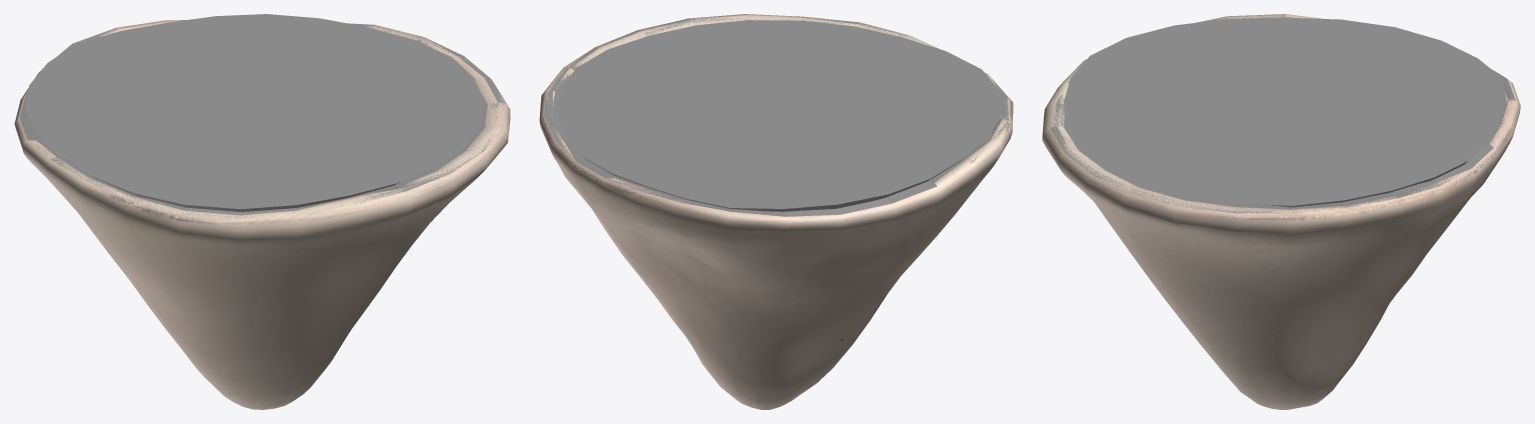
3 views of the same model, side by side, from view 1: azimuth 30°, elevation 25°; view 2: azimuth 150°, elevation 25°; view 3: azimuth 270°, elevation 25° (orthographic). The views are drawn at different scales.
Visible parts, largest first — view 1: Object102, 102, Inner; view 2: Object102, 102, Inner; view 3: Object102, 102, Inner.
Part boxes in pixels (bbox=[...]): Object102: bbox=[25, 14, 482, 211]; 102: bbox=[14, 20, 510, 409]; Inner: bbox=[19, 22, 505, 219]; Object102: bbox=[557, 20, 1001, 211]; 102: bbox=[539, 14, 1013, 409]; Inner: bbox=[544, 14, 1008, 216]; Object102: bbox=[1064, 17, 1505, 207]; 102: bbox=[1042, 14, 1520, 409]; Inner: bbox=[1050, 14, 1515, 213].
Size of the model in its own units: 98.37 by 65.99 by 98.14.
2 materials, 1 textured.
